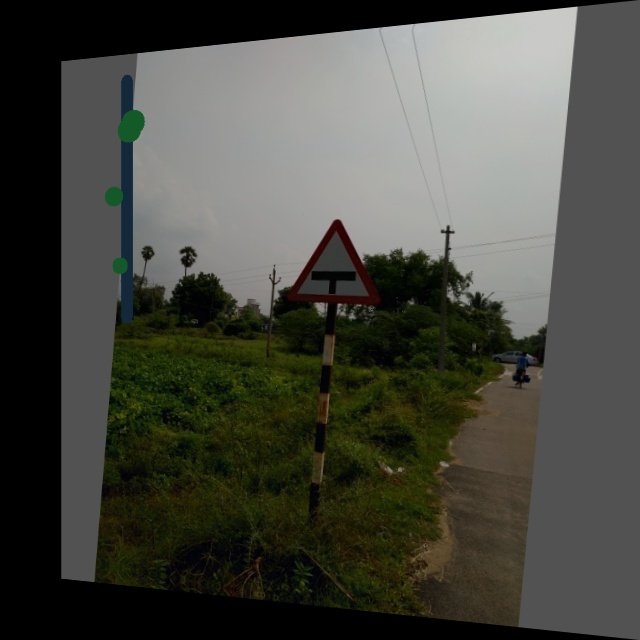T_Intersection: (274, 195, 391, 316)
